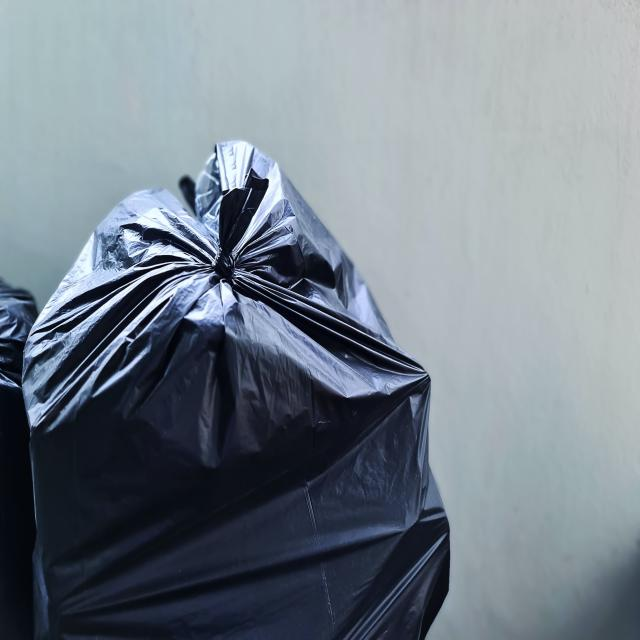trash: (73, 196, 422, 602)
